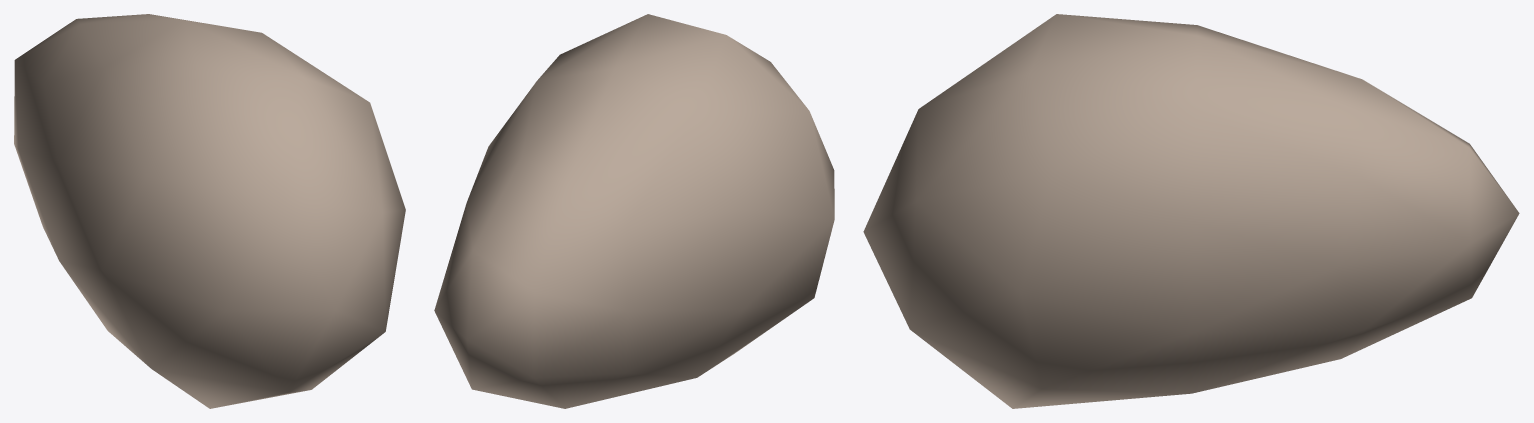
Rendered from Neck.dae.
3 renders of one model, left to right at view 1: azimuth 30°, elevation 25°; view 2: azimuth 150°, elevation 25°; view 3: azimuth 270°, elevation 25°, orthographic. The views are drawn at different scales.
Parts seen in each view (by area): view 1: Neck; view 2: Neck; view 3: Neck.
Boxes of the visible parts, <box> form: Neck: <box>14,14,405,408</box>; Neck: <box>434,14,834,408</box>; Neck: <box>863,14,1519,408</box>.
Size of the model in its own units: 0.0599 by 0.1065 by 0.0637.
